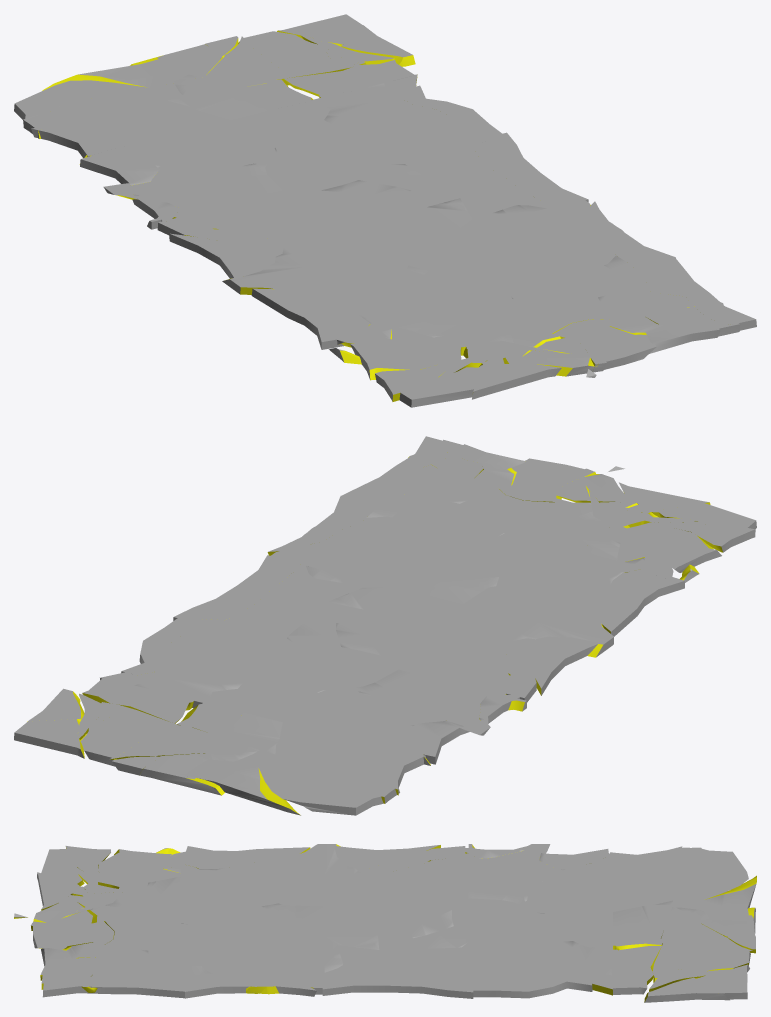
Rendered from GroundShatterMesh.fbx.
3 renders of one model, top to bottom at view 1: azimuth 30°, elevation 25°; view 2: azimuth 150°, elevation 25°; view 3: azimuth 270°, elevation 25°, orthographic. The views are drawn at different scales.
Visible parts, largest first — view 1: polySurface102, polySurface120, polySurface178, polySurface191, polySurface198, polySurface162, polySurface149, polySurface130, polySurface119, polySurface114, polySurface180, polySurface193 (+68 smaller); view 2: polySurface102, polySurface120, polySurface191, polySurface198, polySurface162, polySurface178, polySurface149, polySurface174, polySurface180, polySurface114, polySurface119, polySurface183 (+68 smaller); view 3: polySurface149, polySurface119, polySurface102, polySurface120, polySurface191, polySurface162, polySurface207, polySurface166, polySurface185, polySurface178, polySurface180, polySurface193 (+72 smaller).
Part boxes in pixels (x1,y1,x2,y2): polySurface102: [265, 141, 398, 189]; polySurface120: [330, 327, 455, 380]; polySurface178: [31, 112, 166, 158]; polySurface191: [368, 288, 513, 333]; polySurface198: [251, 288, 370, 349]; polySurface162: [225, 182, 346, 227]; polySurface149: [474, 132, 588, 207]; polySurface130: [553, 319, 656, 372]; polySurface119: [631, 257, 756, 330]; polySurface114: [79, 134, 228, 168]; polySurface180: [238, 31, 338, 85]; polySurface193: [322, 247, 423, 303]; polySurface102: [263, 641, 398, 686]; polySurface120: [609, 526, 721, 579]; polySurface191: [489, 533, 643, 573]; polySurface198: [600, 568, 684, 636]; polySurface162: [367, 634, 468, 682]; polySurface178: [327, 737, 425, 795]; polySurface149: [173, 555, 300, 620]; polySurface174: [259, 768, 384, 815]; polySurface180: [80, 708, 169, 766]; polySurface114: [337, 704, 430, 765]; polySurface119: [342, 436, 449, 504]; polySurface183: [176, 759, 300, 815]; polySurface149: [322, 972, 473, 998]; polySurface119: [42, 969, 184, 998]; polySurface102: [468, 898, 531, 948]; polySurface120: [98, 849, 191, 889]; polySurface191: [180, 864, 230, 924]; polySurface162: [383, 874, 468, 916]; polySurface207: [181, 974, 316, 998]; polySurface166: [466, 974, 592, 998]; polySurface185: [611, 946, 661, 994]; polySurface178: [610, 846, 682, 885]; polySurface180: [653, 948, 750, 971]; polySurface193: [222, 879, 324, 906].
Bounding box in the file's own units: 5 × 0.101 × 10.31.
